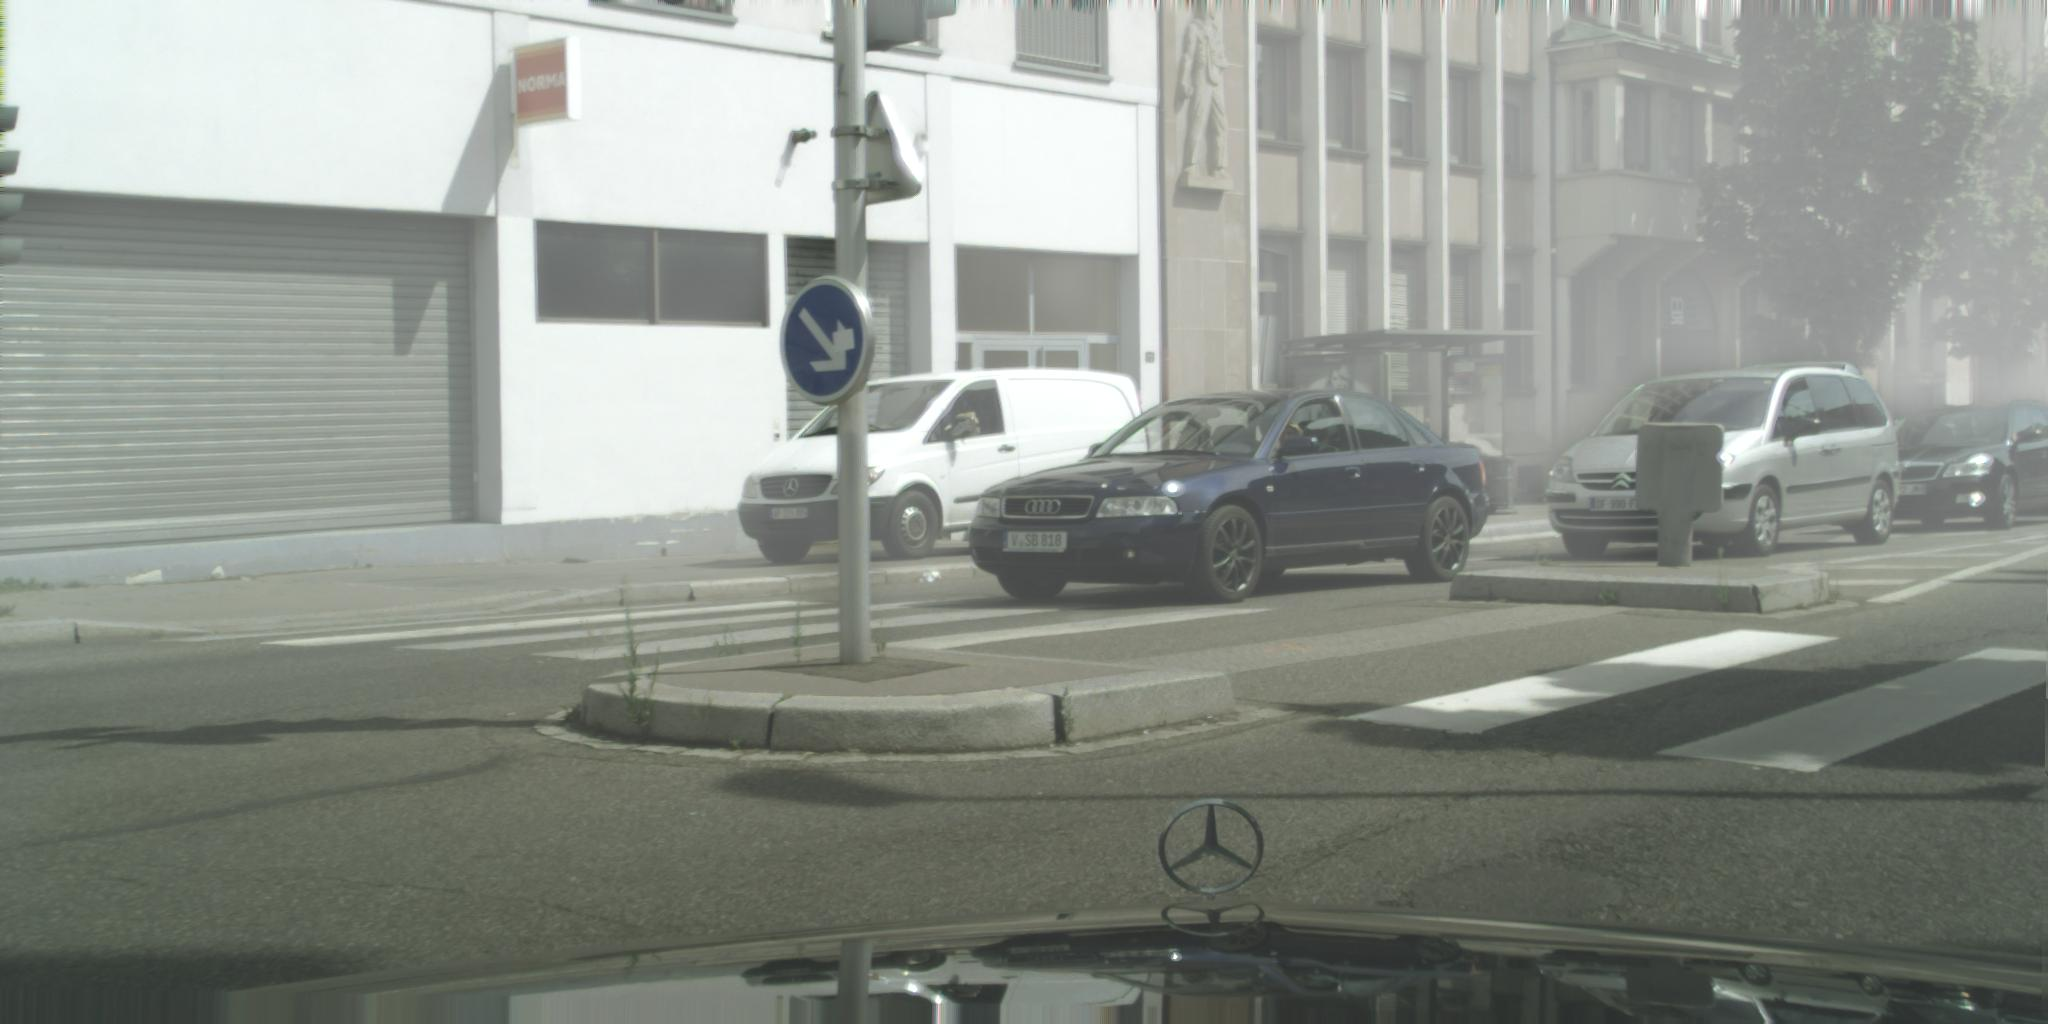car: (969, 389, 1493, 605), (735, 368, 1149, 567), (1545, 360, 1904, 559), (1893, 398, 2048, 533)
